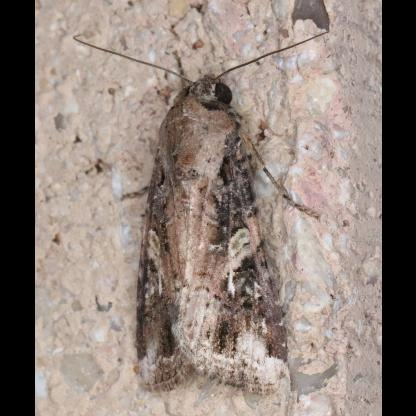Fall Armyworm Moth: (68, 26, 334, 400)
